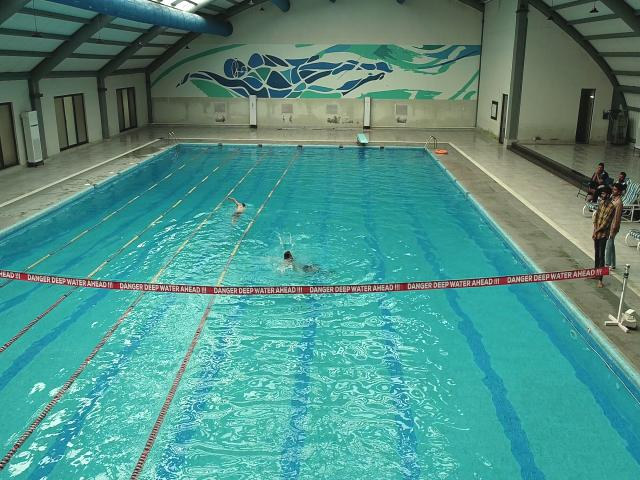drowning: (281, 248, 303, 274)
out of water: (594, 184, 620, 281), (614, 169, 630, 199), (592, 161, 608, 180)
swimming: (230, 198, 246, 226)
